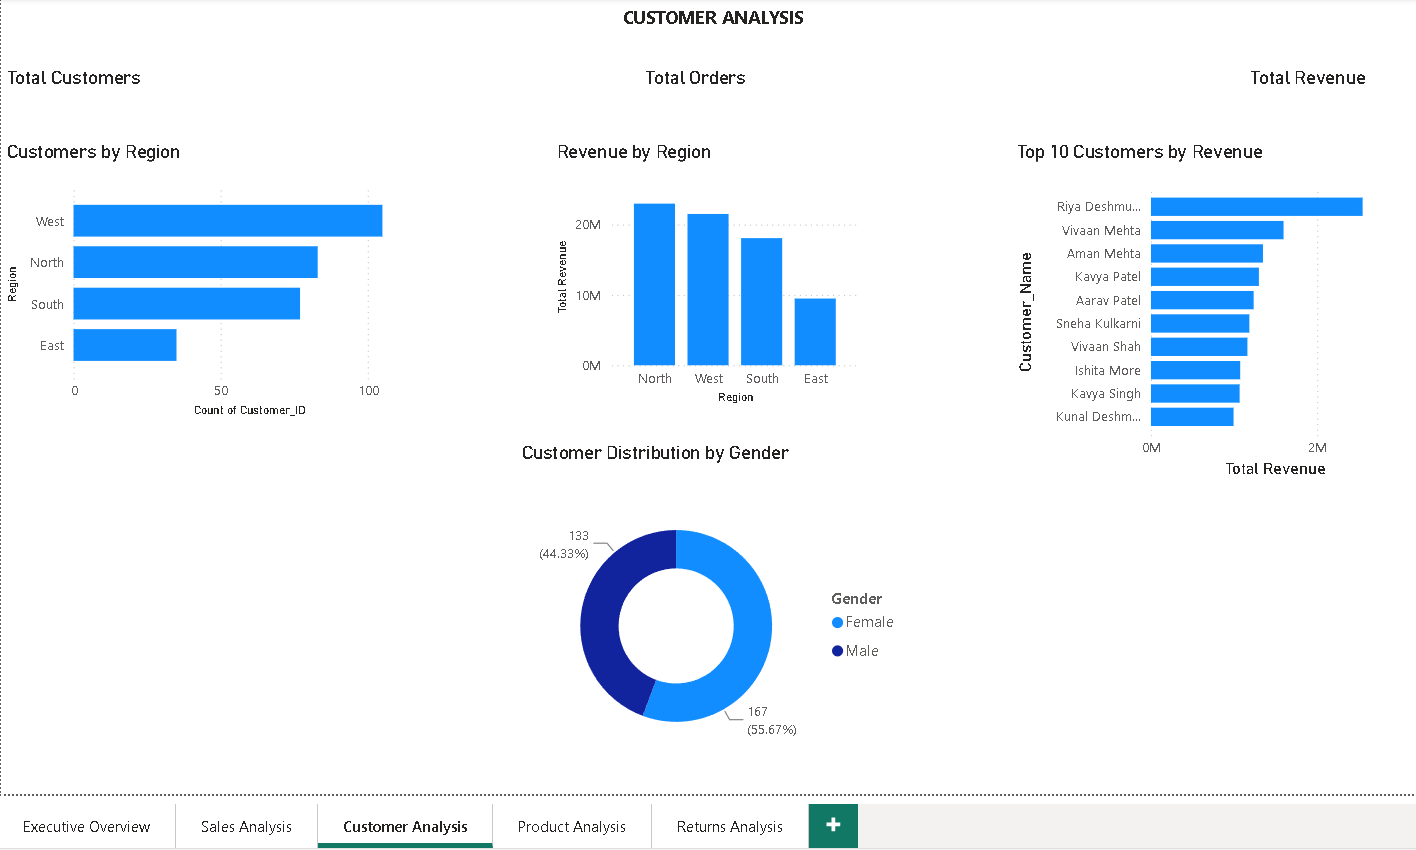

Layout of this report page (visuals, bound fields, positions):
{"tool":"powerbi","page":{"name":"Customer Analysis","canvas":[1280,720],"ordinal":2},"visuals":[{"type":"textbox","box":[9.6,0,1270.7,37],"z":0},{"type":"kpi","fields":{"Indicator":["Orders_Cleaned.Total Customers"]},"box":[0,61.7,135.8,122.1],"z":1},{"type":"kpi","fields":{"Indicator":["Orders_Cleaned.Total Orders"]},"box":[577.7,61.7,133.1,122.1],"z":2},{"type":"kpi","fields":{"Indicator":["Orders_Cleaned.Total Revenue"]},"box":[1125.2,61.7,155.1,122.1],"z":3},{"type":"clusteredBarChart","title":"Customers by Region","fields":{"Category":["Customers_Cleaned.Region"],"Y":["Count(Customers_Cleaned.Customer_ID)"]},"box":[0,128.9,399.1,254.4],"z":4},{"type":"clusteredColumnChart","title":"Revenue by Region","fields":{"Category":["Customers_Cleaned.Region"],"Y":["Orders_Cleaned.Total Revenue"]},"box":[497.5,128.9,283.8,243.1],"z":5},{"type":"barChart","title":"Top 10 Customers by Revenue","fields":{"Category":["Customers_Cleaned.Customer_Name"],"Y":["Orders_Cleaned.Total Revenue"]},"box":[913.6,128.9,366.3,309.8],"z":6},{"type":"donutChart","title":"Customer Distribution by Gender","fields":{"Category":["Customers_Cleaned.Gender"],"Y":["Count(Customers_Cleaned.Customer_ID)"]},"box":[465.8,401.4,356.2,303],"z":7}]}

Visuals, with their boxes on the page's 1280x720 design canvas (x1, y1, x2, y2). These are canvas units, not pixel positions in the 1416x850 screenshot, which may show the page scaled, cropped or inside an application window:
textbox: bbox=[10, 0, 1280, 37]
kpi - Orders_Cleaned.Total Customers: bbox=[0, 62, 136, 184]
kpi - Orders_Cleaned.Total Orders: bbox=[578, 62, 711, 184]
kpi - Orders_Cleaned.Total Revenue: bbox=[1125, 62, 1280, 184]
"Customers by Region" clusteredBarChart: bbox=[0, 129, 399, 383]
"Revenue by Region" clusteredColumnChart: bbox=[498, 129, 781, 372]
"Top 10 Customers by Revenue" barChart: bbox=[914, 129, 1280, 439]
"Customer Distribution by Gender" donutChart: bbox=[466, 401, 822, 704]
